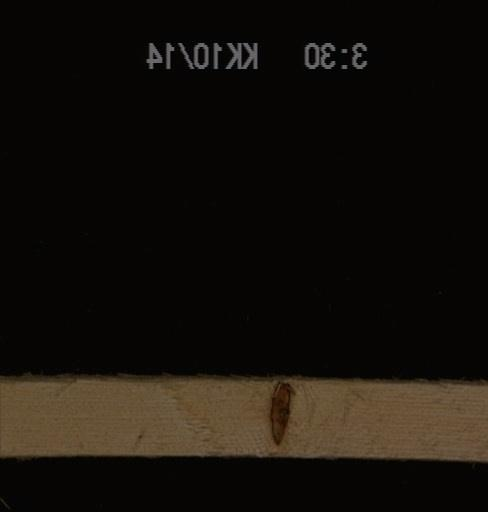edge_knot: (267, 378, 296, 447)
